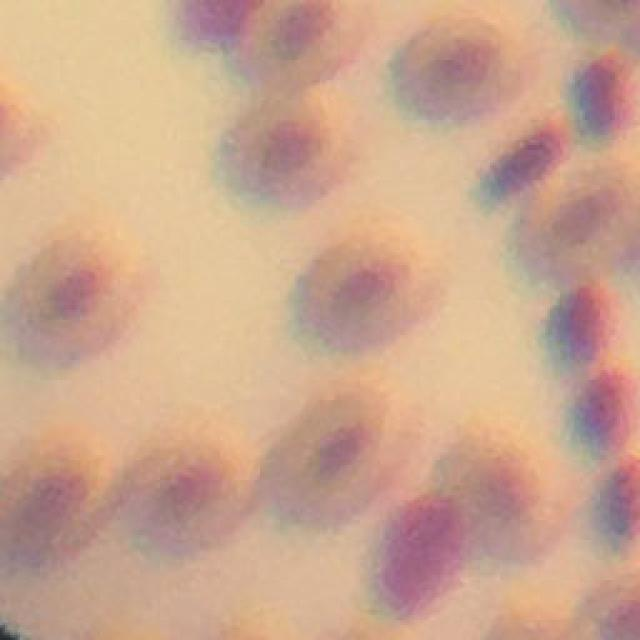RBC: (258, 383, 418, 536), (2, 220, 150, 374), (126, 401, 260, 562), (288, 227, 447, 361), (0, 426, 129, 581), (433, 432, 567, 566), (213, 100, 358, 212), (509, 166, 640, 289), (386, 20, 531, 127), (239, 0, 366, 95)
WBC: (370, 492, 476, 624), (465, 124, 574, 218), (564, 370, 640, 466), (544, 283, 620, 378), (562, 57, 638, 148), (585, 453, 640, 560), (172, 0, 260, 52)
